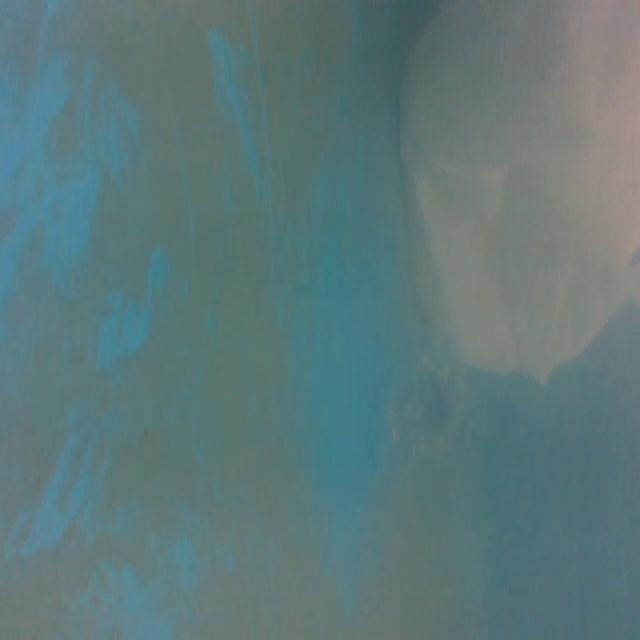plastic bags: (415, 0, 640, 370)
